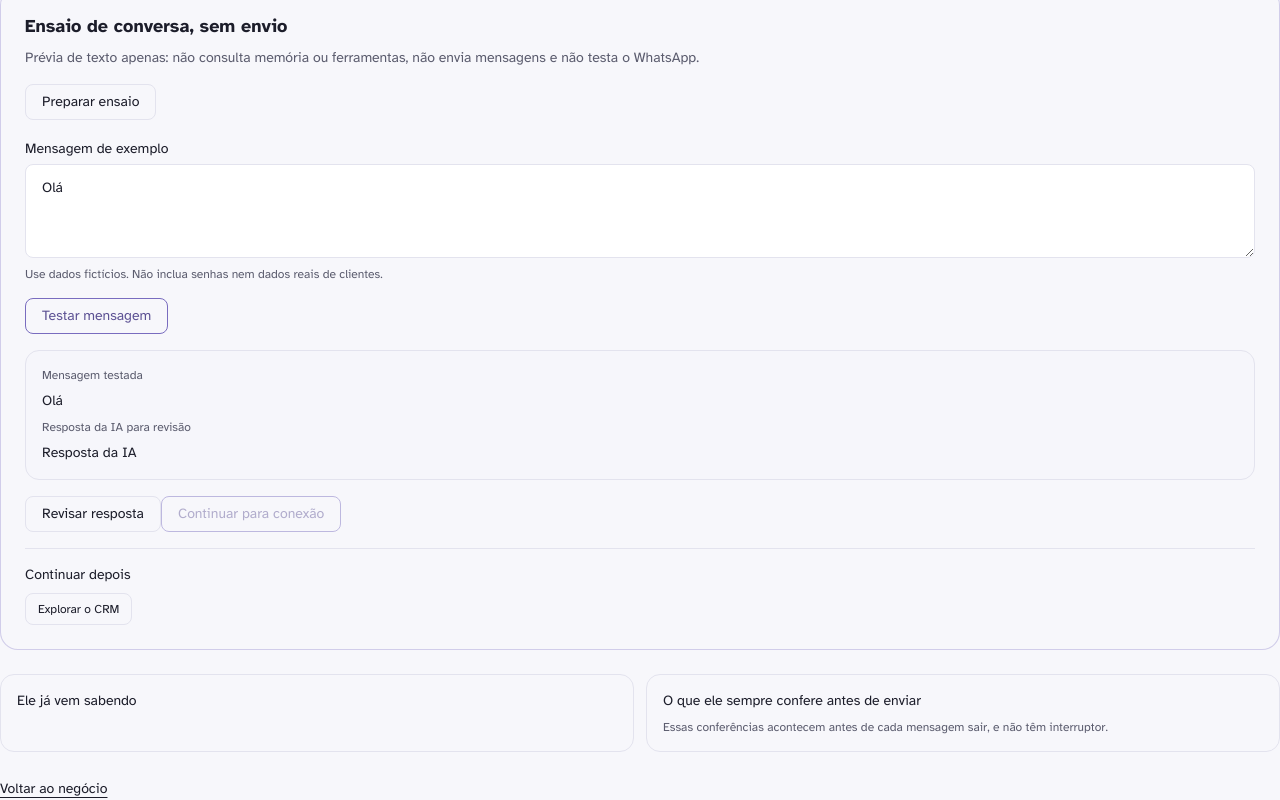
Test: ensaio integrado na tela › objetivo editado invalida revisão e resumo acompanha o formulário
This screenshot has width=1280, height=800.
(page scrolled)
Click the button "Revisar resposta".
click(93, 514)  # box [25,496,161,532]
(page scrolled)
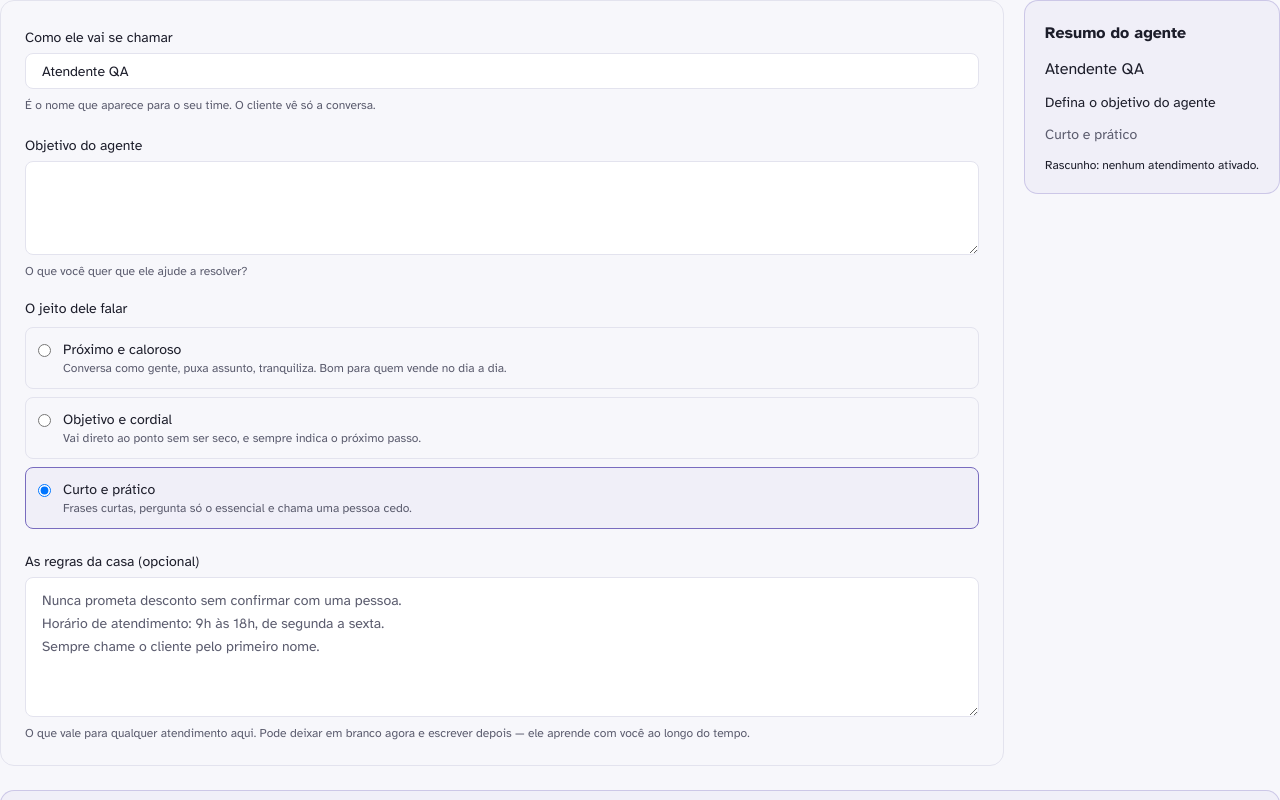
Type "Qualificar orçamentos" into the text box labelled "Objetivo do agente".
click(502, 208); type("Qualificar orçamentos")  # box [25,161,979,255]
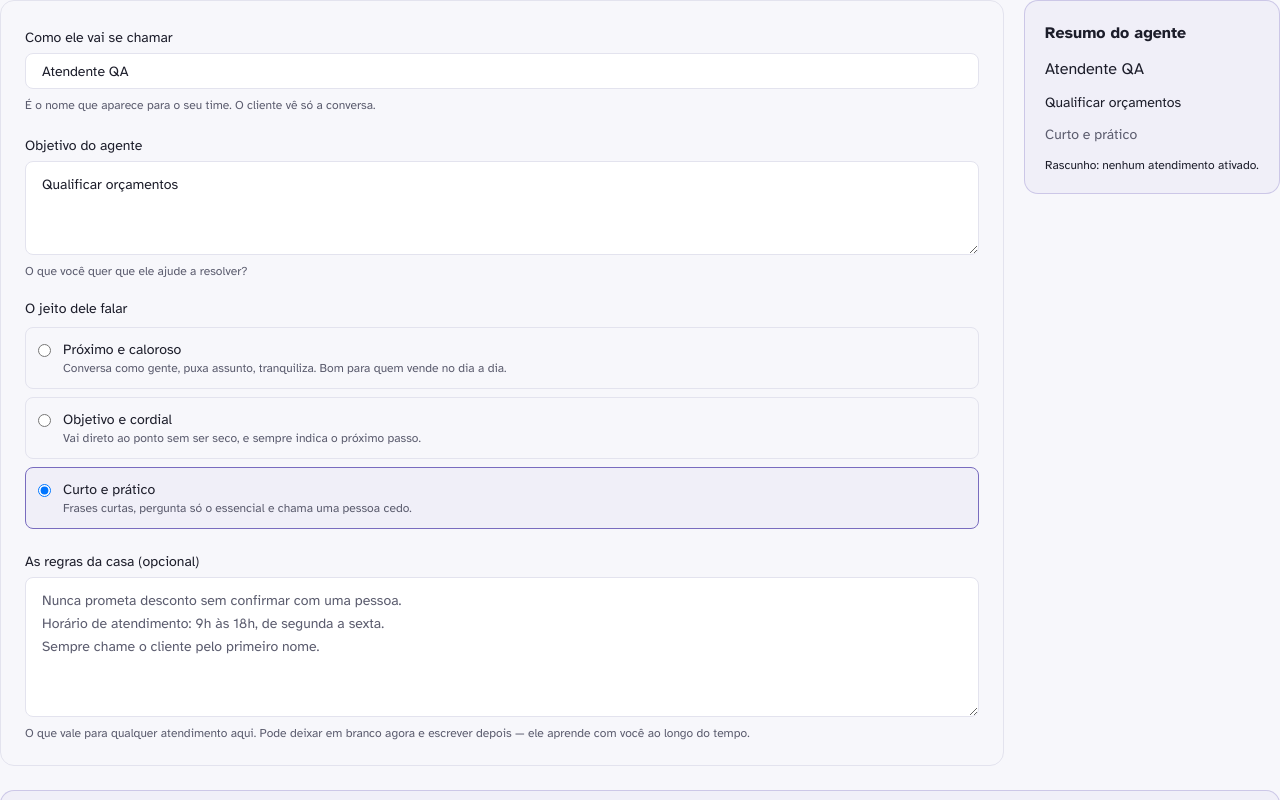
Check: the element "Resumo do agente" shows "Qualificar orçamentos", box [1045,94,1181,111]
